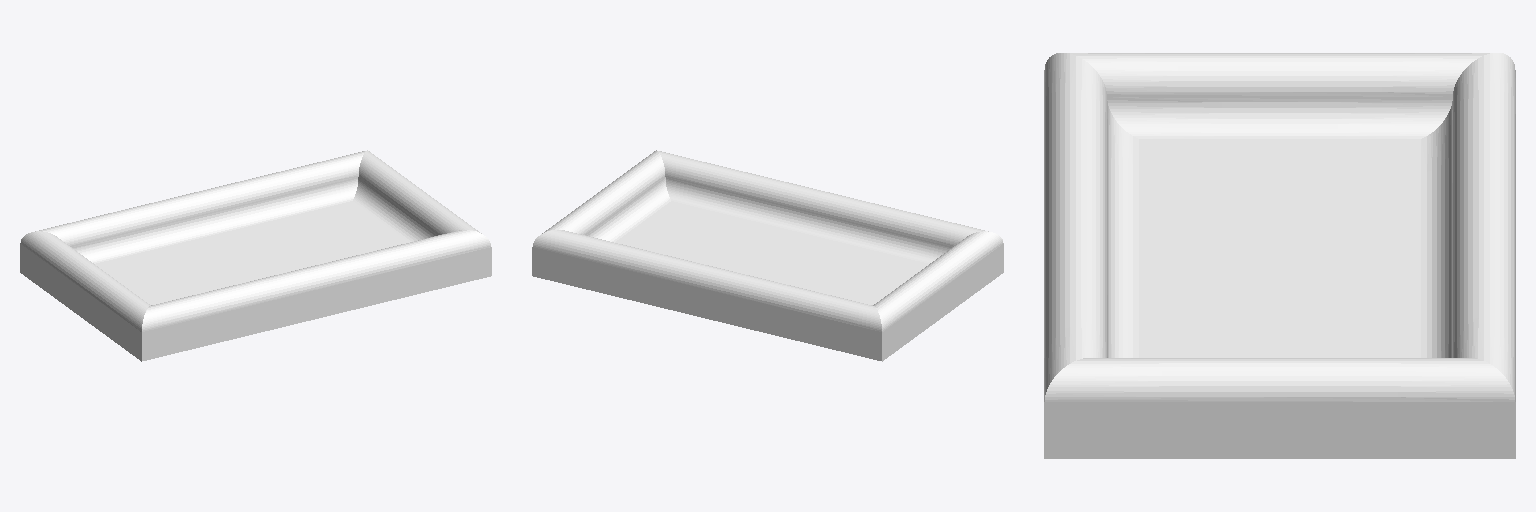
robot.urdf — test2_0.urdf:
<?xml version="1.0" ?>
<robot name="test2_0.urdf">
  <link name="baseLink">
    <contact>
      <lateral_friction value="1.0"/>
      <inertia_scaling value="1.0"/>
    </contact>
    <inertial>
      <origin rpy="0 0 0" xyz="0.000000 0.000000 0.000000"/>
      <mass value="0.000000"/>
      <inertia ixx="0.000000" ixy="0.000000" ixz="0.000000" iyy="0.000000" iyz="0.000000" izz="0.000000"/>
    </inertial>
    <visual>
      <origin rpy="0 0 0" xyz="0 0 0"/>
      <geometry>
       <mesh filename="test2_0.obj" scale="1 1 1"/>
      </geometry>
       <material name="red">
        <color rgba="1 1 1 1"/>
      </material>
    </visual>
    <collision>
      <origin rpy="0 0 0" xyz="0 0 0"/>
      <geometry>
        <mesh filename="test2_0_vhacd.obj" scale="1 1 1"/>
      </geometry>
    </collision>
  </link>
</robot>

--- What the picture shows (computed from the rendered views, not written in the file) ---
3 views of the same robot in one strip: view 1: azimuth 30°, elevation 25°; view 2: azimuth 150°, elevation 25°; view 3: azimuth 270°, elevation 25° (orthographic).
Model test2_0.urdf with 1 links and 0 joints (none), rooted at baseLink, posed every joint at zero.
Visible links, largest first — view 1: baseLink; view 2: baseLink; view 3: baseLink.
Boxes of the visible links, x1,y1,x2,y2 form: baseLink: (20,150,491,361); baseLink: (532,150,1003,361); baseLink: (1044,53,1515,458).
Bounding box of the posed robot: 0.25 × 0.15 × 0.03 m (x, y, z).
Meshes: 1 distinct files referenced, 1 mesh visuals loaded (1 OBJ).